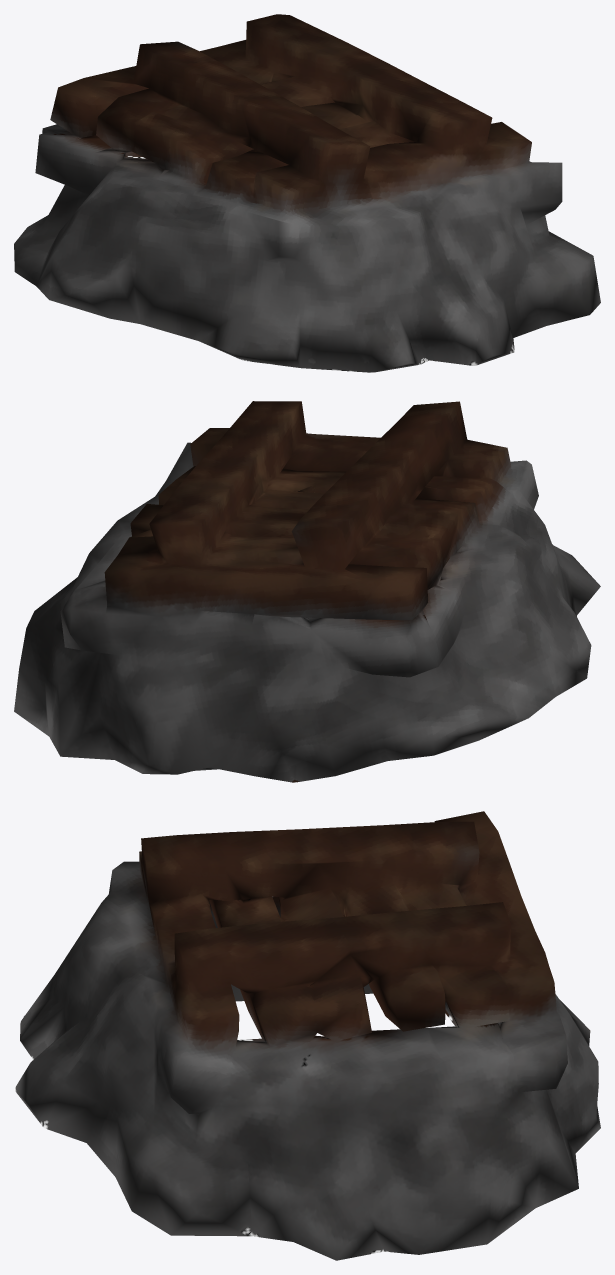
Rendered from exit down.fbx.
3 renders of one model, top to bottom at view 1: azimuth 30°, elevation 25°; view 2: azimuth 150°, elevation 25°; view 3: azimuth 270°, elevation 25°, orthographic. The views are drawn at different scales.
Visible parts, largest first — view 1: Layer_2; view 2: Layer_2; view 3: Layer_2.
Boxes of the visible parts, left/top/right/bottom form: Layer_2: left=14, top=14, right=600, bottom=372; Layer_2: left=14, top=401, right=600, bottom=782; Layer_2: left=14, top=811, right=600, bottom=1260.
Size of the model in its own units: 0.3565 by 0.3322 by 0.1659.
